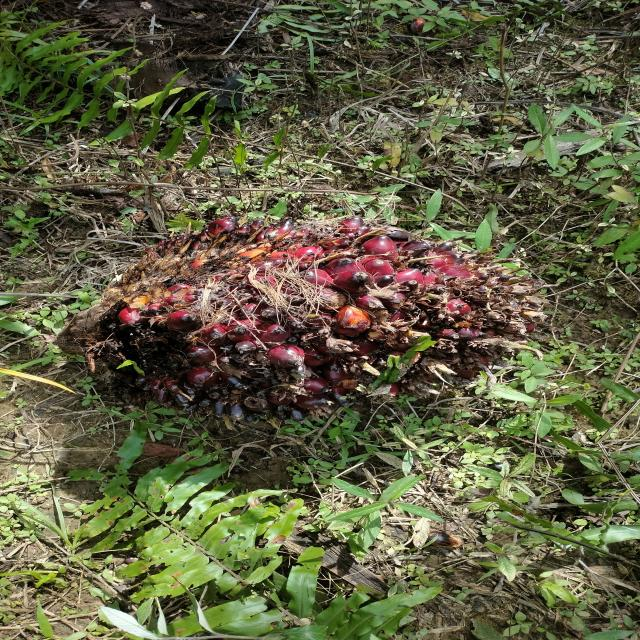fraksi 1: (74, 170, 556, 461)
